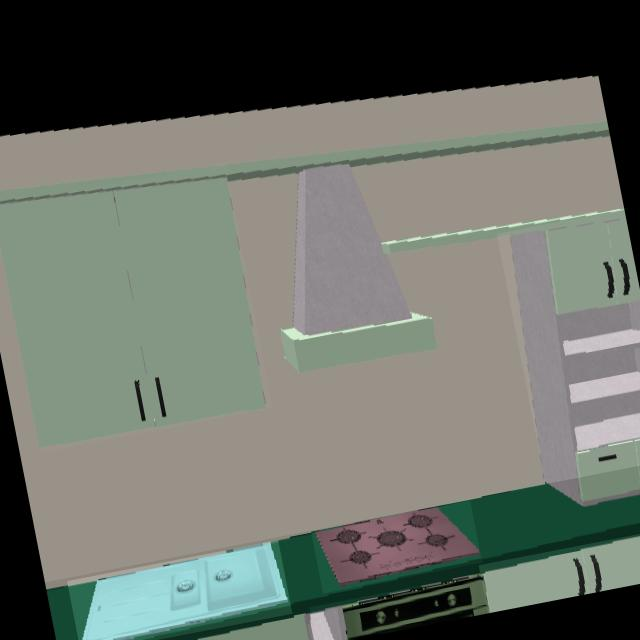cabinet: (0, 177, 267, 448), (509, 214, 640, 508), (483, 535, 640, 613), (196, 616, 311, 640)
countertop: (137, 485, 640, 640)
oven: (313, 579, 491, 640)
sink: (83, 543, 291, 640)
stove: (313, 509, 481, 590)
